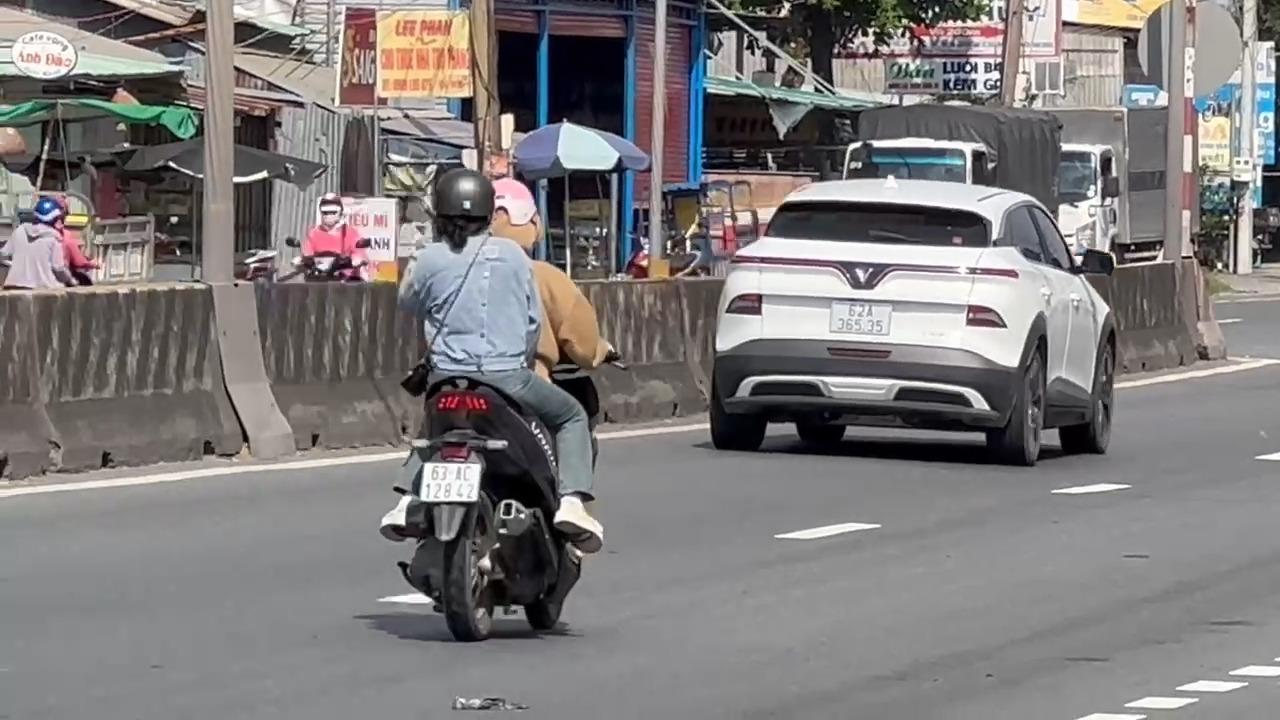bien_so: (418, 460, 481, 504), (828, 299, 893, 336)
